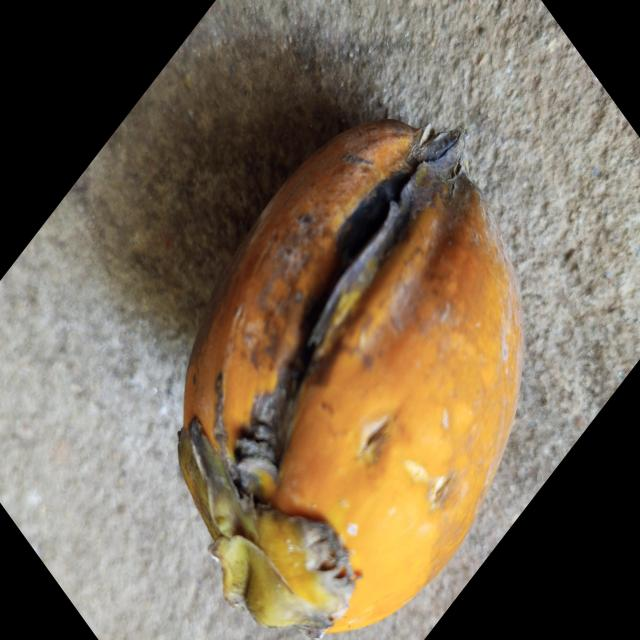damaged: (177, 122, 524, 640)
